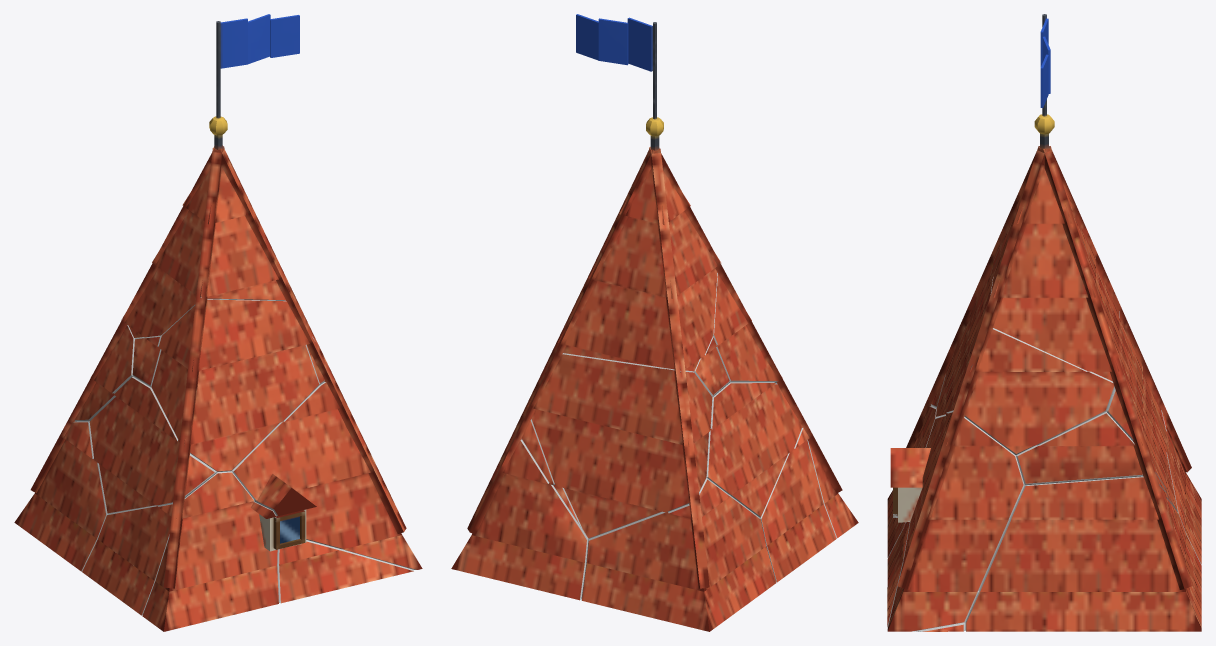
File: Kit_Gate_TowerRoof_Fractured.fbx
The picture shows the model from 3 angles, left to right: view 1: azimuth 30°, elevation 25°; view 2: azimuth 150°, elevation 25°; view 3: azimuth 270°, elevation 25°; orthographic projection. The views are drawn at different scales.
Visible parts, largest first — view 1: Kit_Gate_TowerRoof_frag_05, Kit_Gate_TowerRoof_frag_11, Kit_Gate_TowerRoof_frag_06, Kit_Gate_TowerRoof_frag_02, Kit_Gate_TowerRoof_frag_10, Kit_Gate_TowerRoof_frag_03, Kit_Gate_TowerRoof_frag_08, Kit_Gate_TowerRoof_frag_01, Kit_Gate_TowerRoof_frag_09, Kit_Gate_TowerRoof_frag_12; view 2: Kit_Gate_TowerRoof_frag_11, Kit_Gate_TowerRoof_frag_12, Kit_Gate_TowerRoof_frag_03, Kit_Gate_TowerRoof_frag_04, Kit_Gate_TowerRoof_frag_10, Kit_Gate_TowerRoof_frag_08, Kit_Gate_TowerRoof_frag_05, Kit_Gate_TowerRoof_frag_02, Kit_Gate_TowerRoof_frag_01, Kit_Gate_TowerRoof_frag_07; view 3: Kit_Gate_TowerRoof_frag_04, Kit_Gate_TowerRoof_frag_11, Kit_Gate_TowerRoof_frag_06, Kit_Gate_TowerRoof_frag_01, Kit_Gate_TowerRoof_frag_07, Kit_Gate_TowerRoof_frag_05, Kit_Gate_TowerRoof_frag_12, Kit_Gate_TowerRoof_frag_03, Kit_Gate_TowerRoof_frag_09, Kit_Gate_TowerRoof_frag_02.
Part boxes in pixels (bbox=[...]): Kit_Gate_TowerRoof_frag_05: bbox=[151, 148, 319, 588]; Kit_Gate_TowerRoof_frag_11: bbox=[30, 14, 299, 493]; Kit_Gate_TowerRoof_frag_06: bbox=[232, 382, 422, 569]; Kit_Gate_TowerRoof_frag_02: bbox=[142, 471, 305, 631]; Kit_Gate_TowerRoof_frag_10: bbox=[89, 377, 217, 514]; Kit_Gate_TowerRoof_frag_03: bbox=[14, 421, 107, 571]; Kit_Gate_TowerRoof_frag_08: bbox=[82, 503, 172, 615]; Kit_Gate_TowerRoof_frag_01: bbox=[132, 145, 406, 533]; Kit_Gate_TowerRoof_frag_09: bbox=[277, 540, 413, 603]; Kit_Gate_TowerRoof_frag_12: bbox=[74, 319, 134, 421]; Kit_Gate_TowerRoof_frag_11: bbox=[467, 14, 720, 588]; Kit_Gate_TowerRoof_frag_12: bbox=[527, 353, 712, 538]; Kit_Gate_TowerRoof_frag_03: bbox=[581, 477, 776, 631]; Kit_Gate_TowerRoof_frag_04: bbox=[451, 439, 588, 600]; Kit_Gate_TowerRoof_frag_10: bbox=[706, 382, 802, 517]; Kit_Gate_TowerRoof_frag_08: bbox=[760, 428, 836, 582]; Kit_Gate_TowerRoof_frag_05: bbox=[653, 149, 842, 493]; Kit_Gate_TowerRoof_frag_02: bbox=[807, 440, 858, 538]; Kit_Gate_TowerRoof_frag_01: bbox=[649, 147, 729, 396]; Kit_Gate_TowerRoof_frag_07: bbox=[521, 419, 584, 532]; Kit_Gate_TowerRoof_frag_04: bbox=[965, 476, 1201, 631]; Kit_Gate_TowerRoof_frag_11: bbox=[991, 14, 1191, 589]; Kit_Gate_TowerRoof_frag_06: bbox=[887, 412, 1024, 631]; Kit_Gate_TowerRoof_frag_01: bbox=[897, 146, 1114, 589]; Kit_Gate_TowerRoof_frag_07: bbox=[1016, 411, 1174, 508]; Kit_Gate_TowerRoof_frag_05: bbox=[906, 146, 1042, 447]; Kit_Gate_TowerRoof_frag_12: bbox=[1106, 311, 1177, 511]; Kit_Gate_TowerRoof_frag_03: bbox=[1161, 410, 1201, 564]; Kit_Gate_TowerRoof_frag_09: bbox=[887, 522, 965, 631]; Kit_Gate_TowerRoof_frag_02: bbox=[887, 406, 936, 557].
Size of what is drawn, in the model's own units: 3 by 5.8 by 3.
